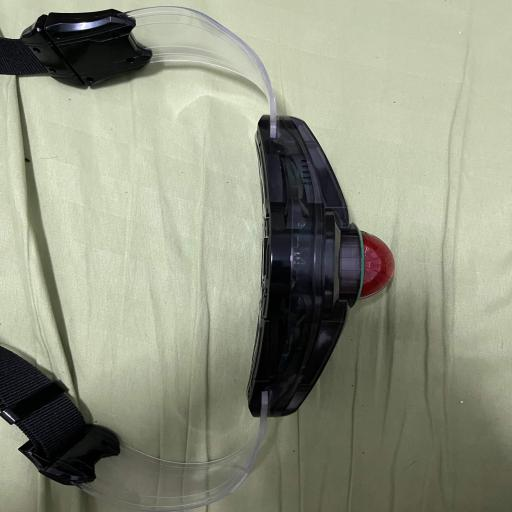zeztzdriver: (247, 115, 375, 417), (78, 392, 269, 512), (125, 6, 277, 135), (0, 347, 119, 484), (0, 9, 152, 86), (360, 231, 394, 299)
